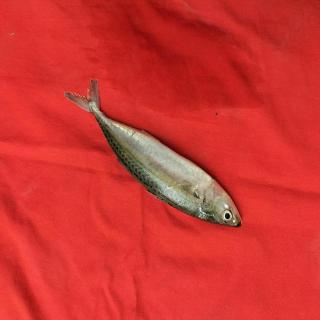Ikan: (59, 72, 257, 243)
